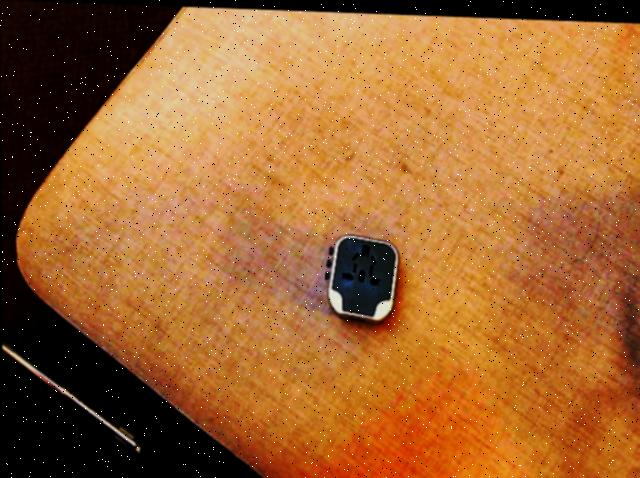adapter: (323, 230, 398, 321)
